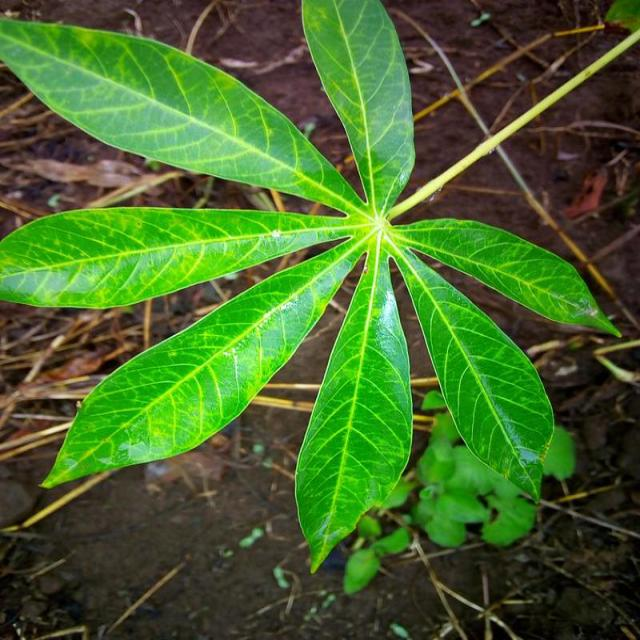cassava leaf: (0, 1, 624, 574), (38, 232, 370, 489), (0, 15, 370, 216), (387, 239, 555, 503), (294, 243, 414, 574), (0, 204, 364, 309), (300, 0, 416, 217)
